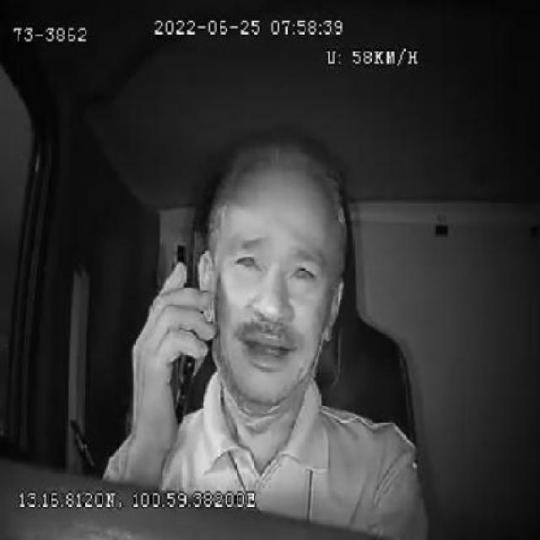phone: (158, 238, 199, 423)
